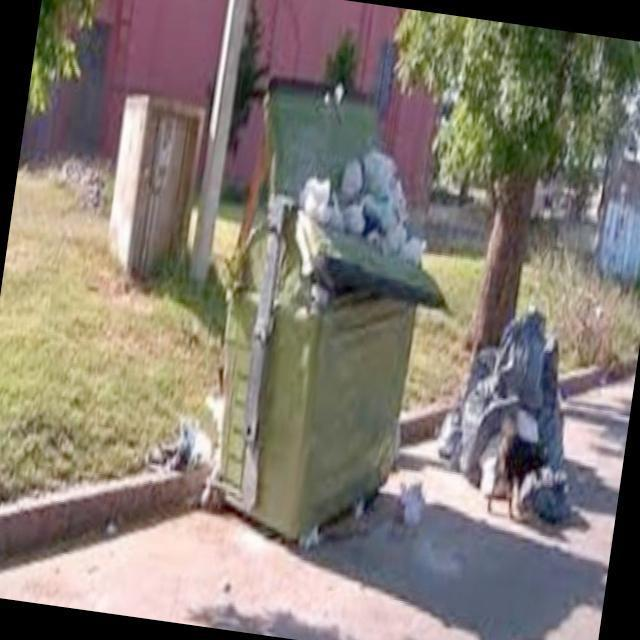garbage: (426, 290, 610, 538), (287, 136, 443, 278), (154, 398, 234, 513), (386, 466, 438, 554)
